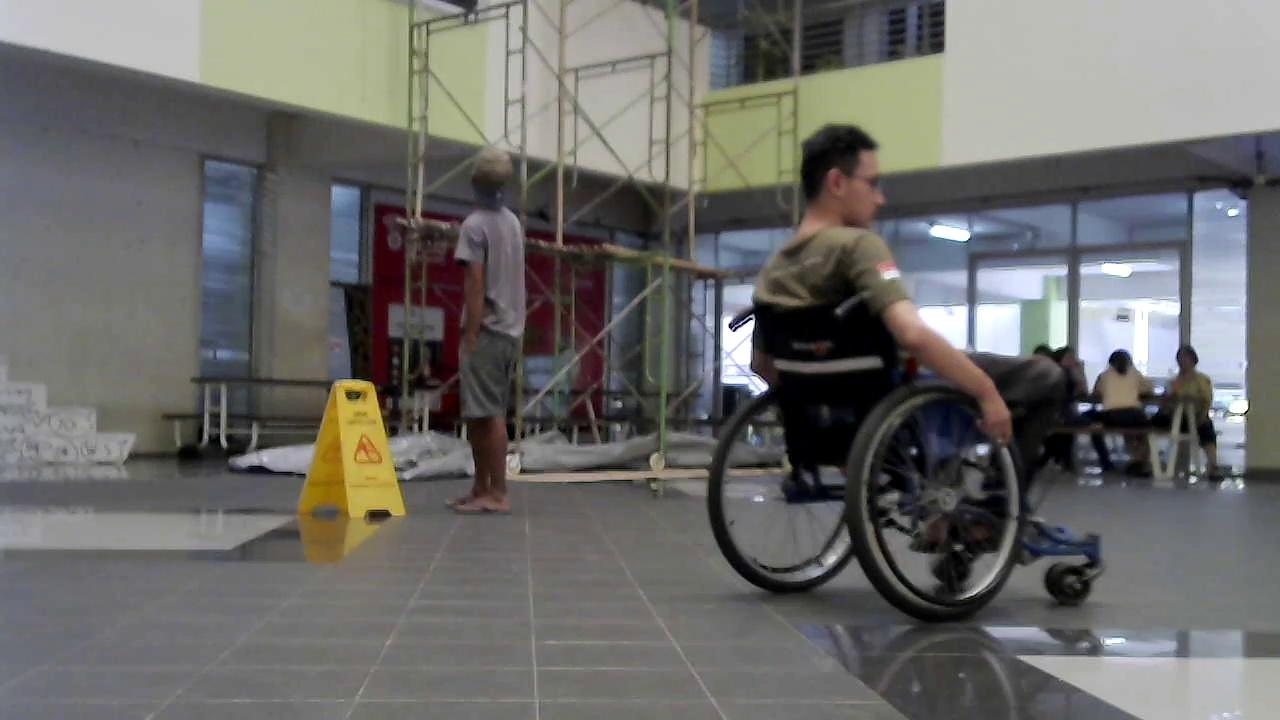person: (750, 123, 1025, 499), (444, 152, 528, 516), (1083, 347, 1157, 480), (1158, 346, 1219, 486)
wheelchair: (686, 281, 1117, 630)
